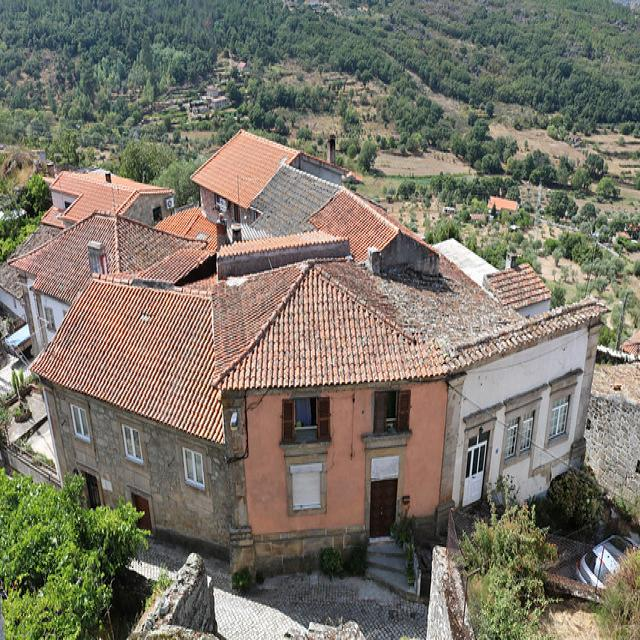Normal_building: (26, 193, 606, 583)
